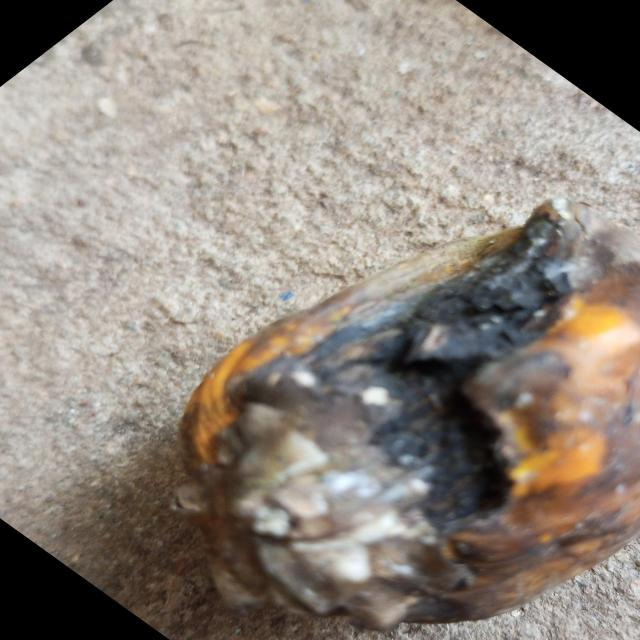damaged: (175, 199, 640, 630)
